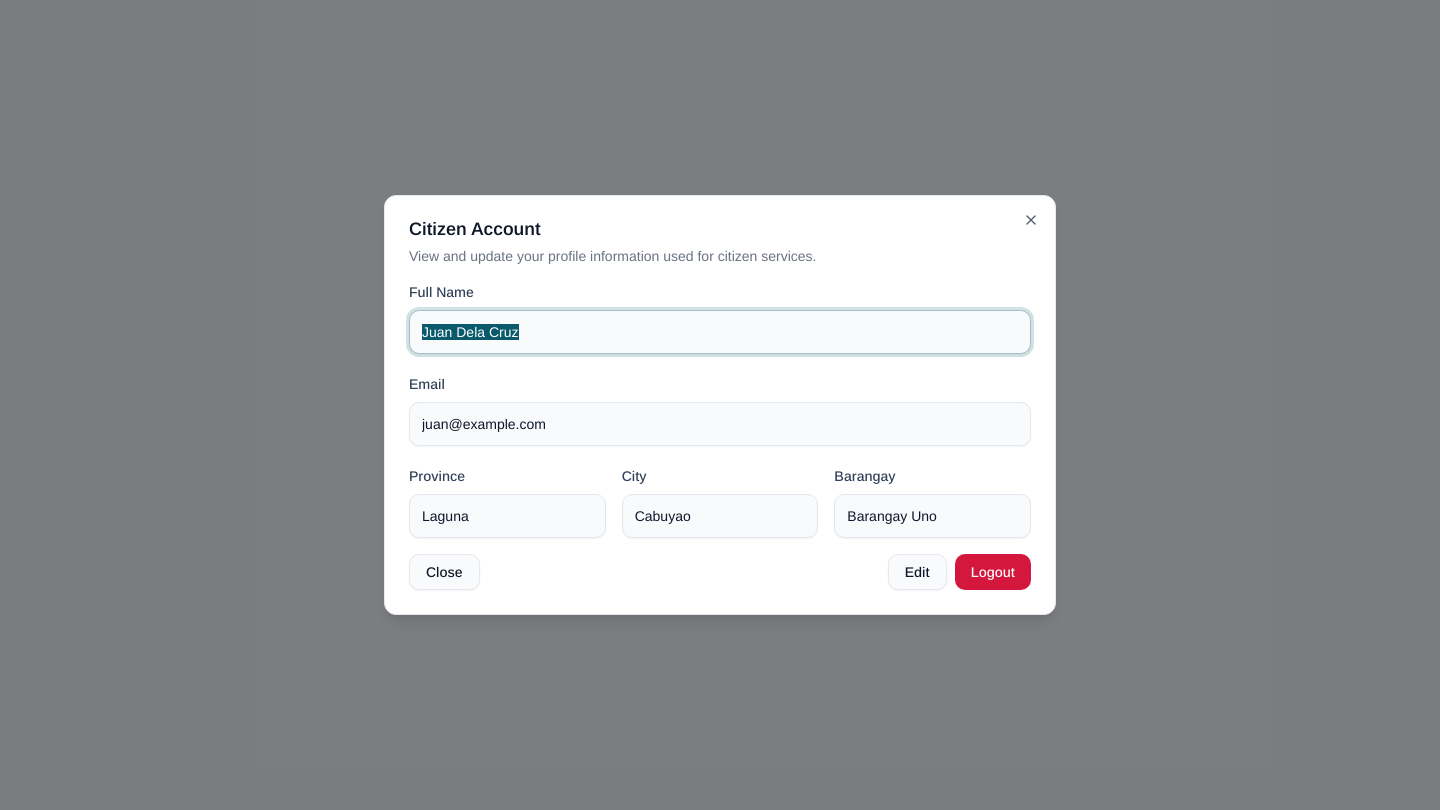
Test: CitizenAccountModal › disables Save again when changes are reverted
This screenshot has width=1440, height=810.
Click the button "Edit" at {"x": 917, "y": 572}, box top-left (888, 554), bottom-right (947, 590)
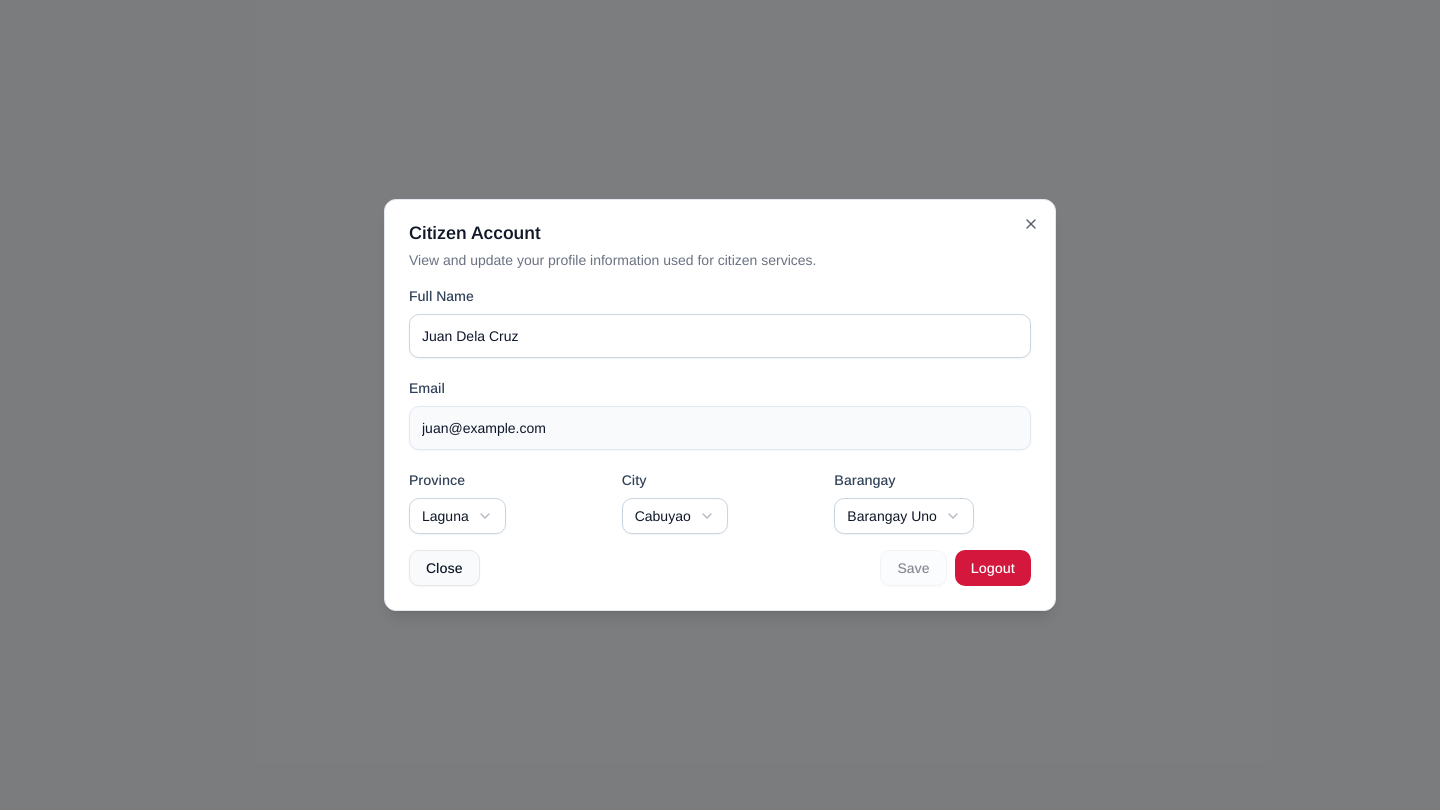
Replace the text in the field labelled "Full Name" with "Juan Miguel Dela Cruz" at {"x": 720, "y": 336}, box top-left (409, 314), bottom-right (1031, 358)
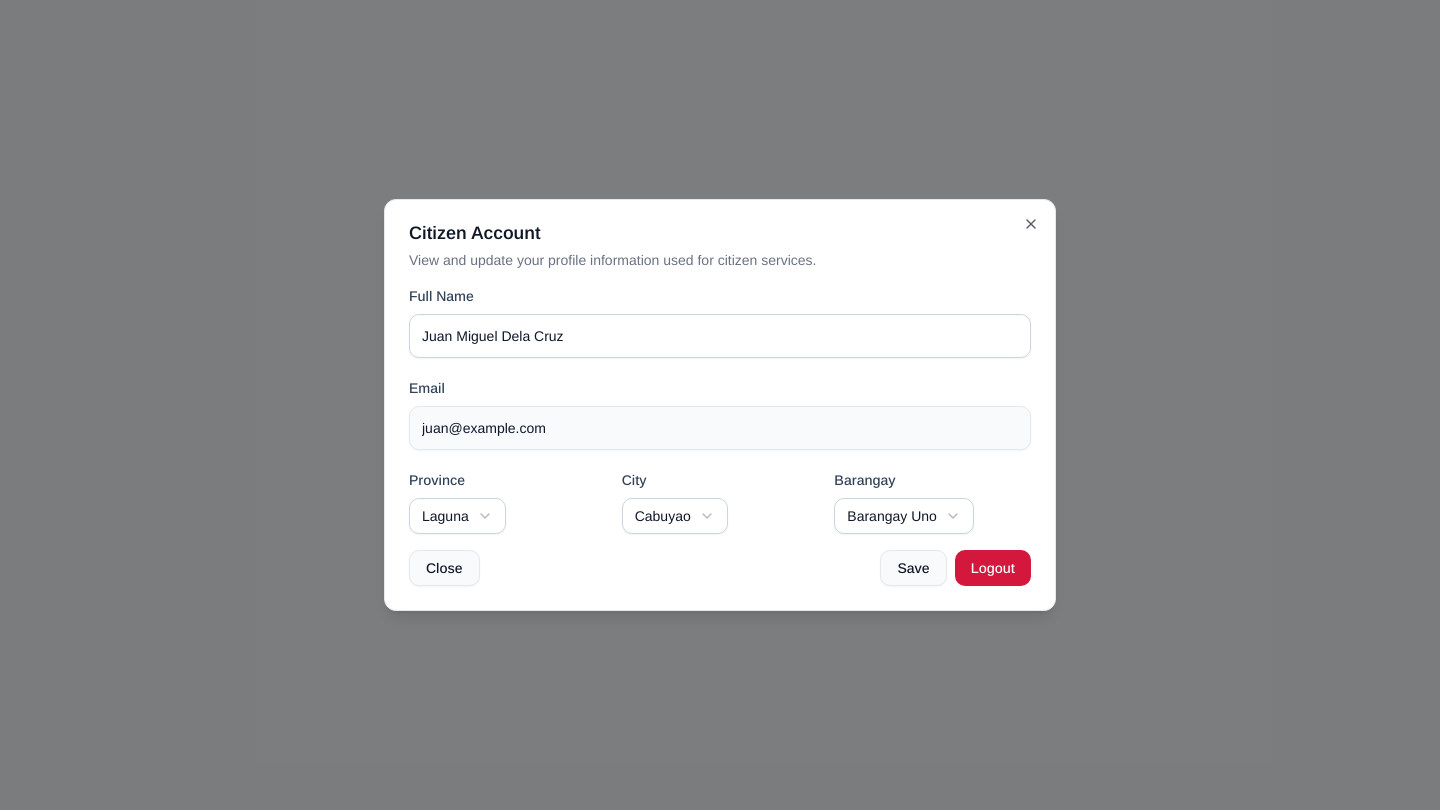
Result: the button "Save" is enabled at top-left (880, 550), bottom-right (947, 586)
Replace the text in the field labelled "Full Name" with "Juan Dela Cruz" at {"x": 720, "y": 336}, box top-left (409, 314), bottom-right (1031, 358)
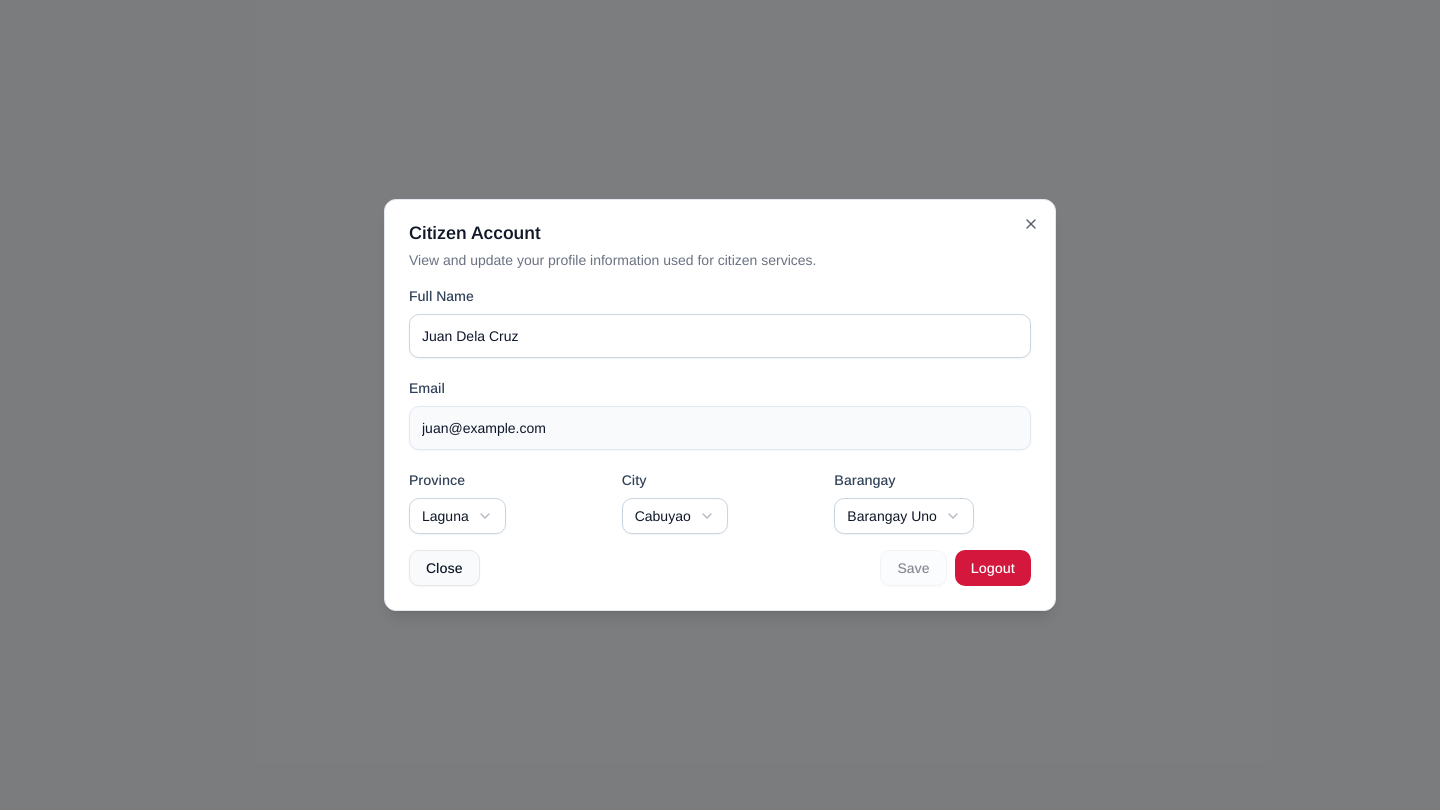
Result: the button "Save" is disabled at top-left (880, 550), bottom-right (947, 586)
